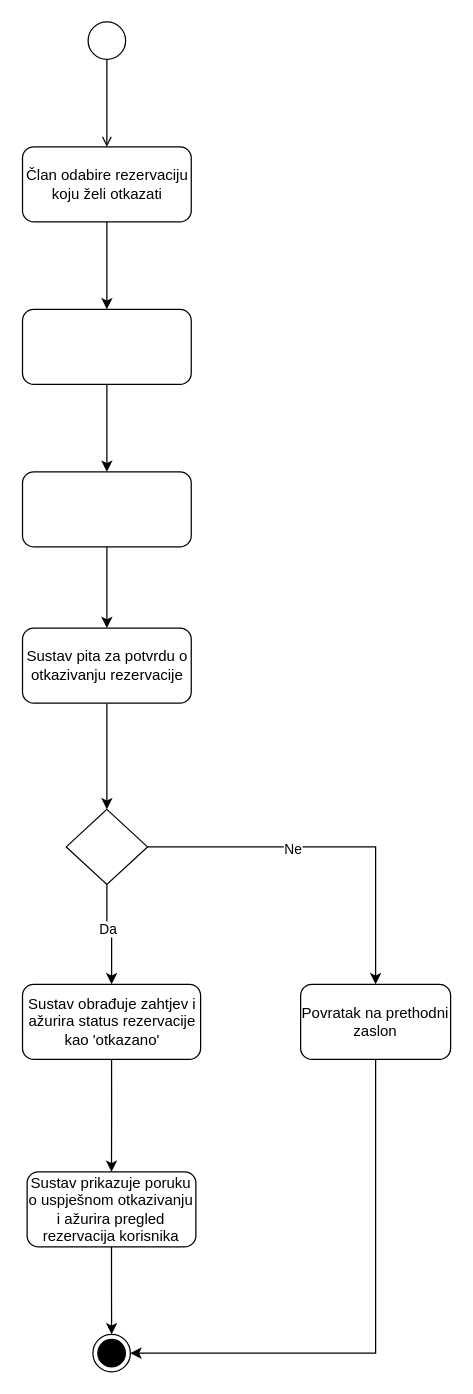
Some shapes in this 473 by 1394 pixel diagram are drawn without their labels. The shapes that lost their labels are listed below. From the top down, each one's centre as x and y in pixels, then its label:
the point at 106,346: Sustav prikazuje detalje odabrane rezervacije
the point at 106,509: Član odabire opciju 'Otkaži'
the point at 106,846: Potvrda otkazivanja?
